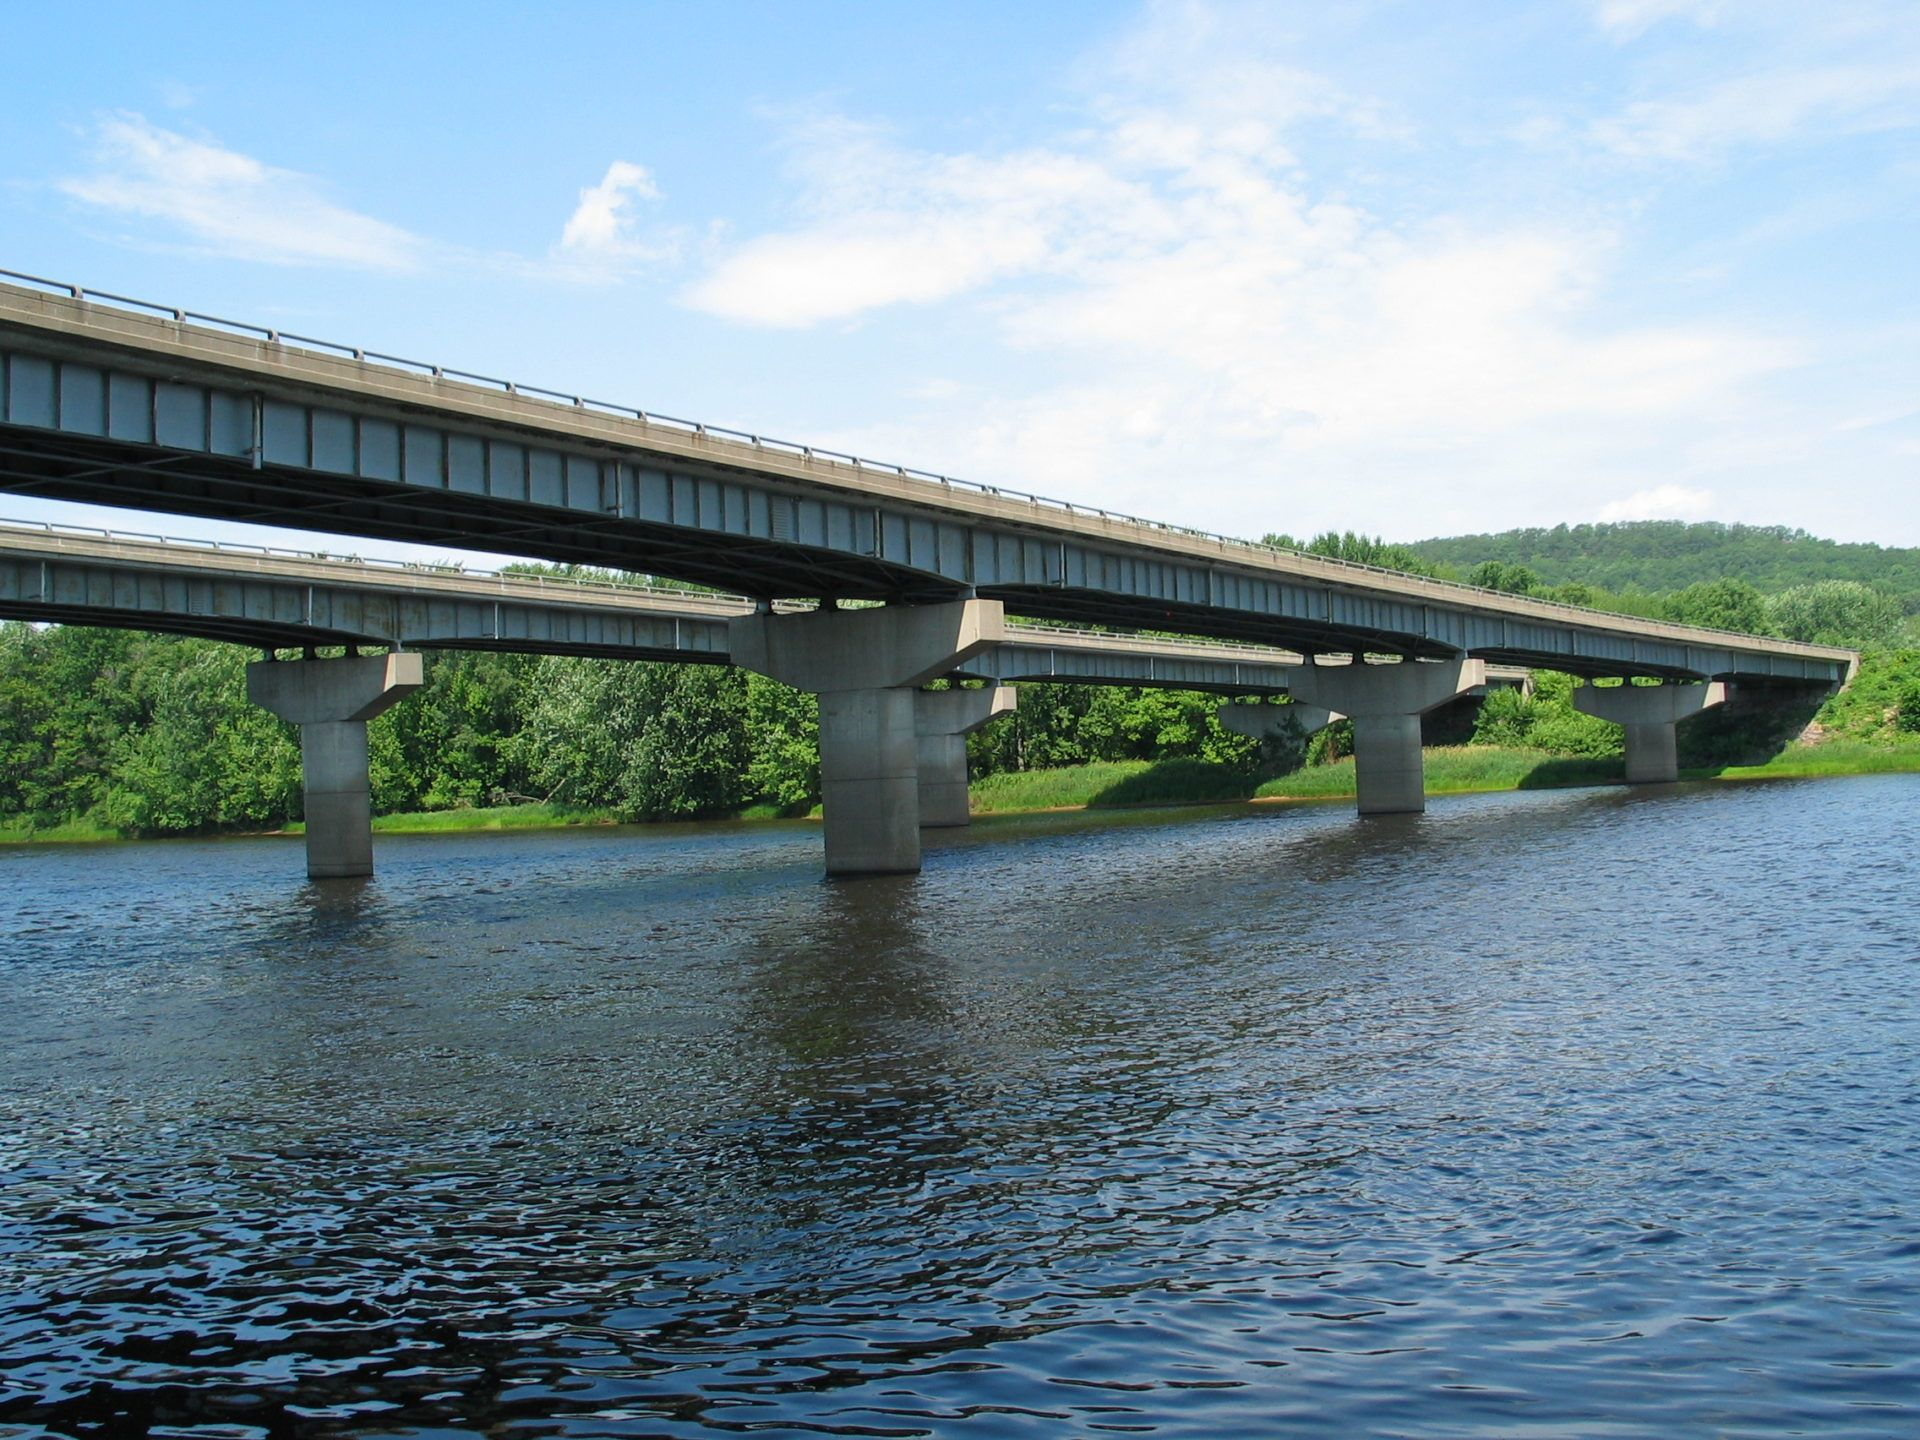bridge: (6, 268, 1860, 703)
